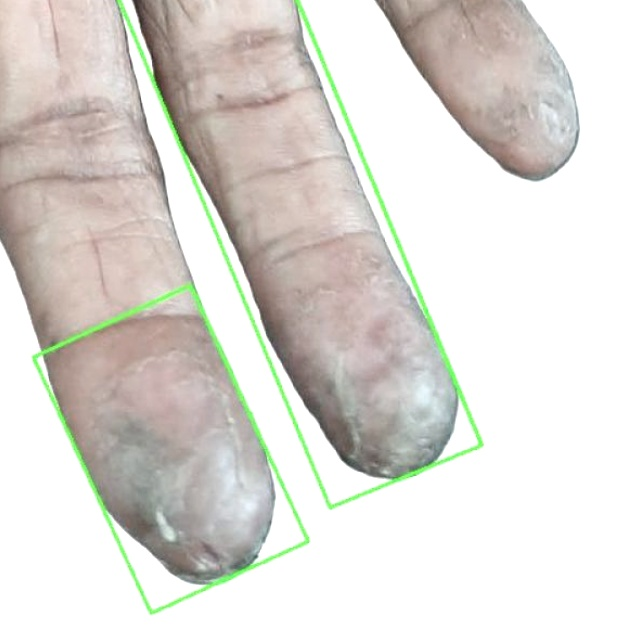Contact Dermatitis: (0, 0, 639, 639), (120, 0, 482, 508), (34, 285, 309, 613)
